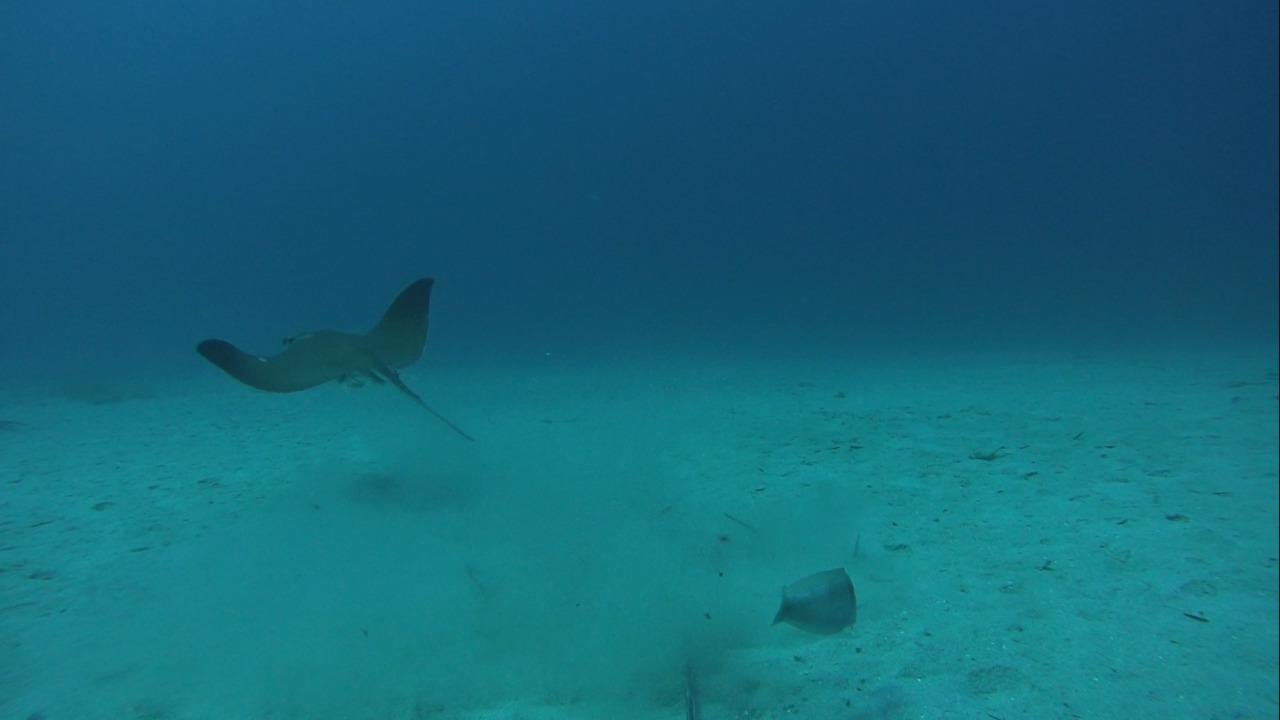myliobatis: (182, 268, 477, 443)
raor: (760, 558, 860, 633)
